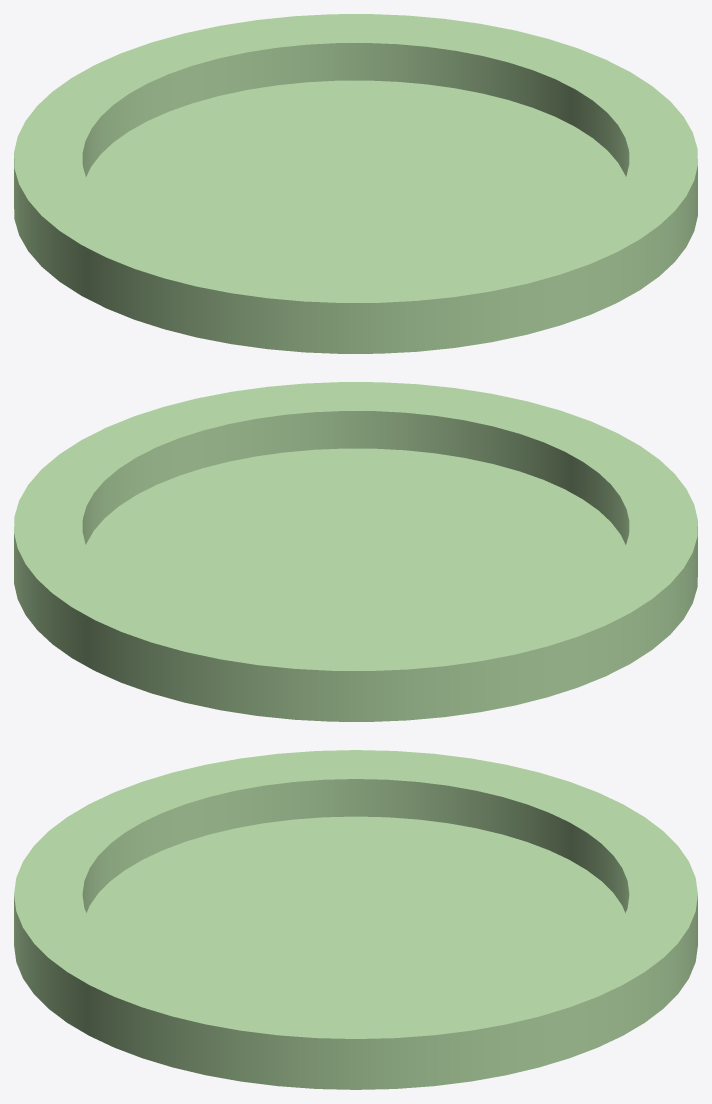
Rendered from Пластиковый токен.fbx.
The picture shows the model from 3 angles, top to bottom: view 1: azimuth 30°, elevation 25°; view 2: azimuth 150°, elevation 25°; view 3: azimuth 270°, elevation 25°; orthographic projection.
Visible parts, largest first — view 1: BezierCircle.007; view 2: BezierCircle.007; view 3: BezierCircle.007.
Part boxes in pixels (x1,y1,x2,y2): BezierCircle.007: (14, 14, 697, 353); BezierCircle.007: (14, 382, 697, 721); BezierCircle.007: (14, 750, 697, 1089).
Size of the model in its own units: 0.573 by 0.573 by 0.047.
